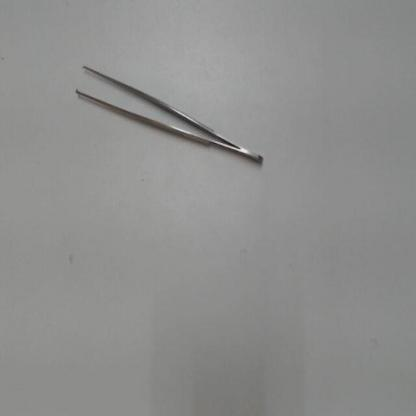Gillies Toothed Dissector: (76, 53, 266, 171)
